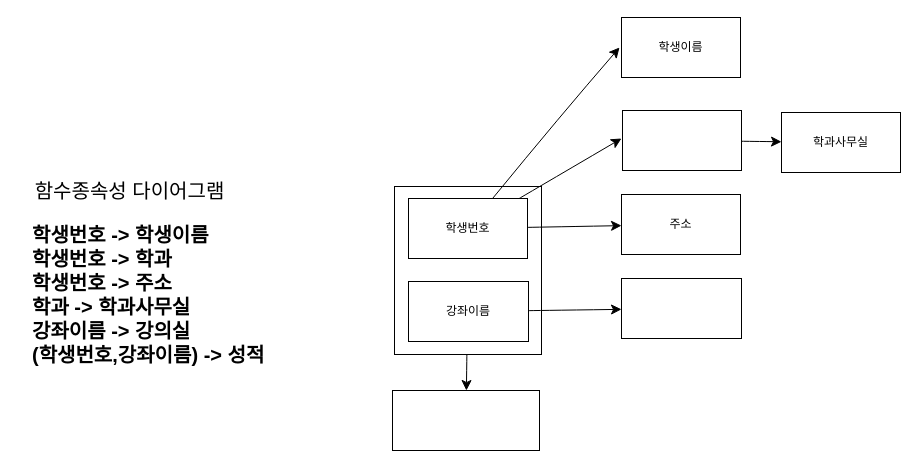
Some shapes in this 918 by 468 pixel diagram are drawn without their labels. Each missing label, with the centre of its shape:
"강의실" belongs at (681,308).
"성적" belongs at (466,420).
"학과" belongs at (682,140).
